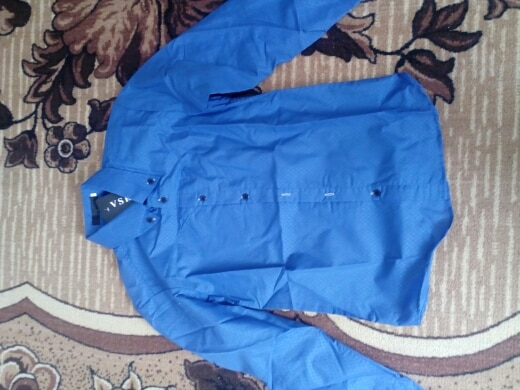shirts: (80, 5, 448, 390)
